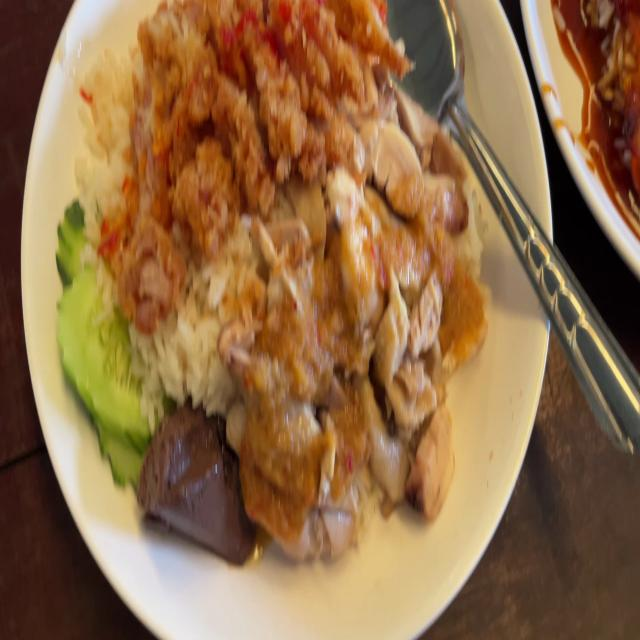01red_pork_and_crispy_pork: (556, 0, 640, 204)
boiled_chicken: (250, 111, 484, 537)
boiled_chicken_blood_jelly: (148, 396, 244, 560)
chicken_rice: (56, 0, 490, 575)
cucumber: (58, 194, 152, 482)
fried_chicken: (122, 0, 409, 297)
